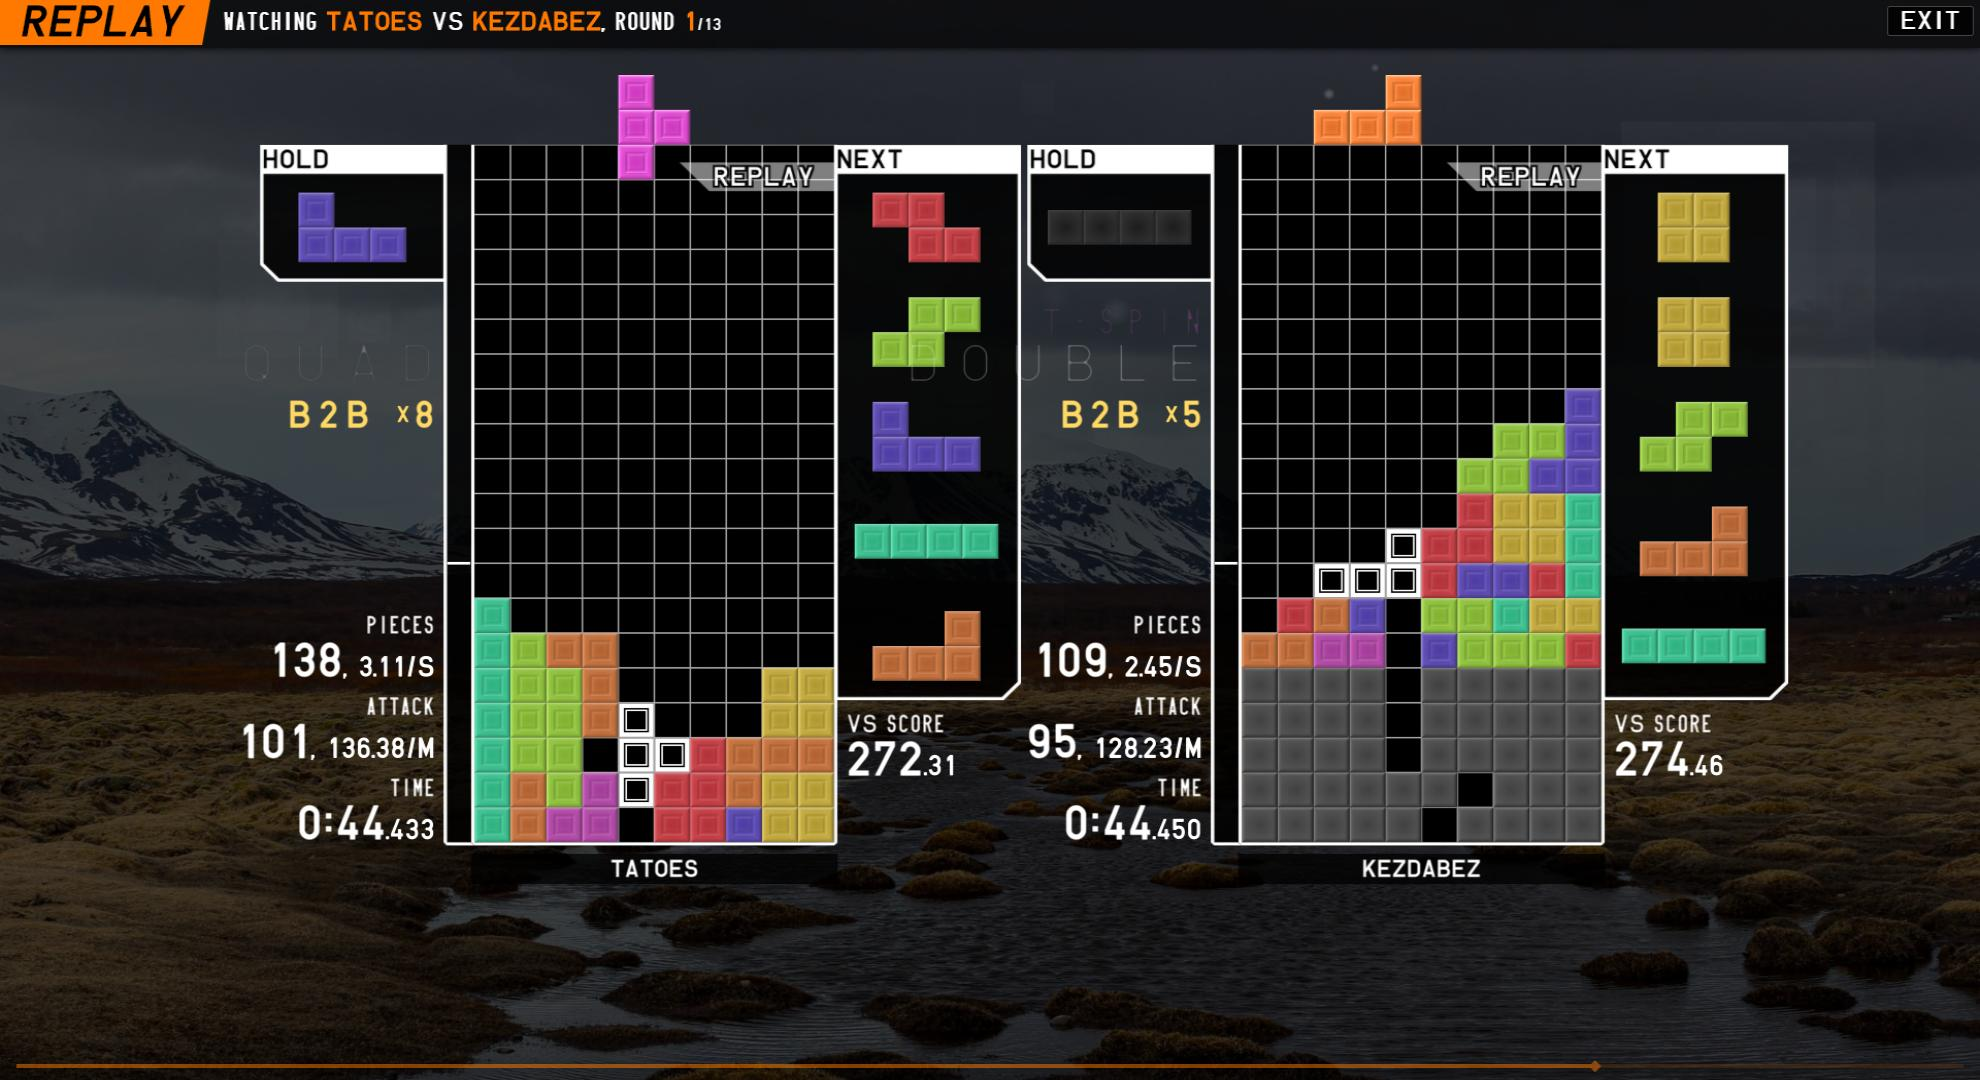tspin: (577, 700, 690, 807)
